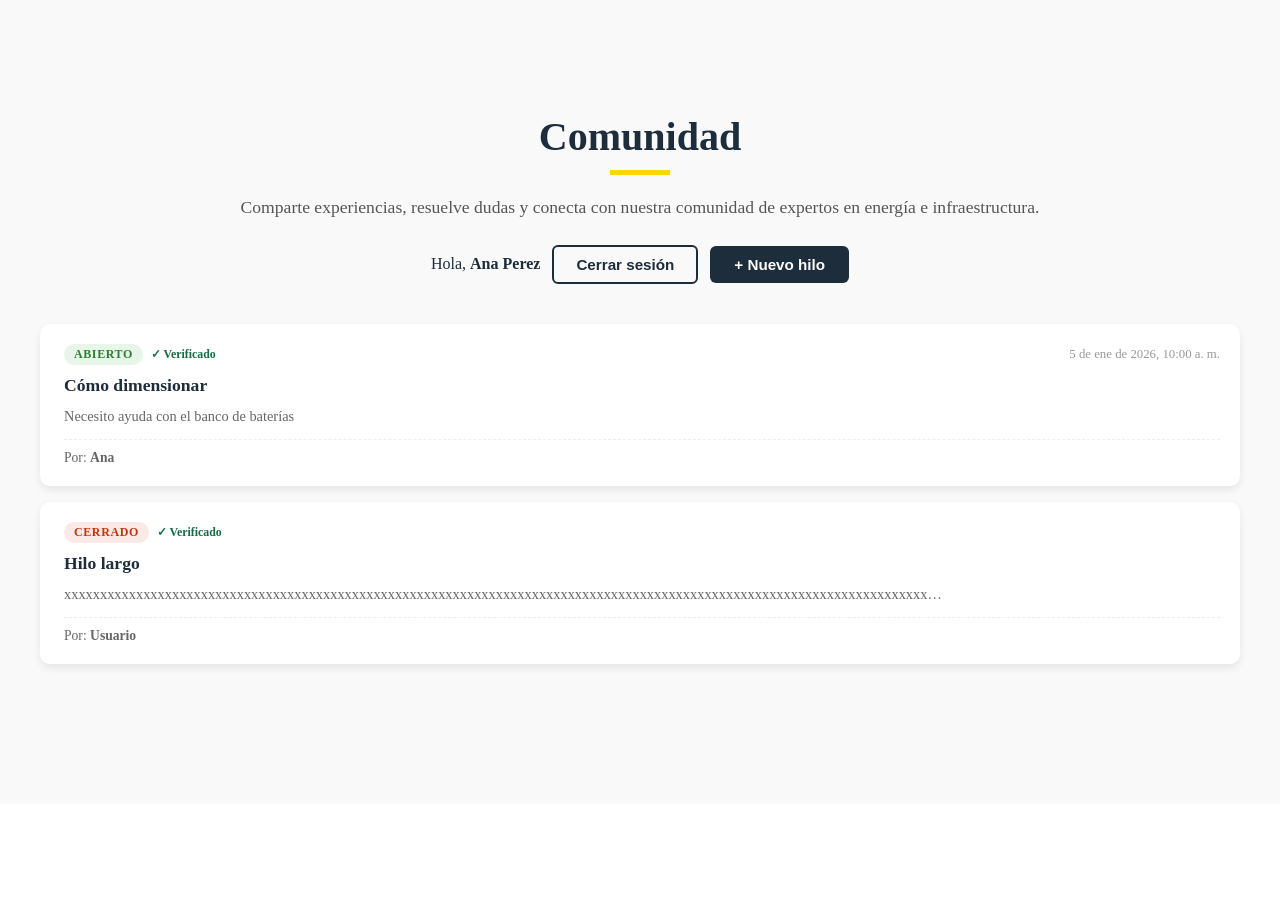
Scenario: Foro › usuario autenticado › saluda, permite cerrar sesión y crear un hilo
The image size is (1280, 900).
Expected: the text "Ana Perez" is shown, [470,255,540,272]
Click the button "+ Nuevo hilo": (780, 264) [710,246,849,283]
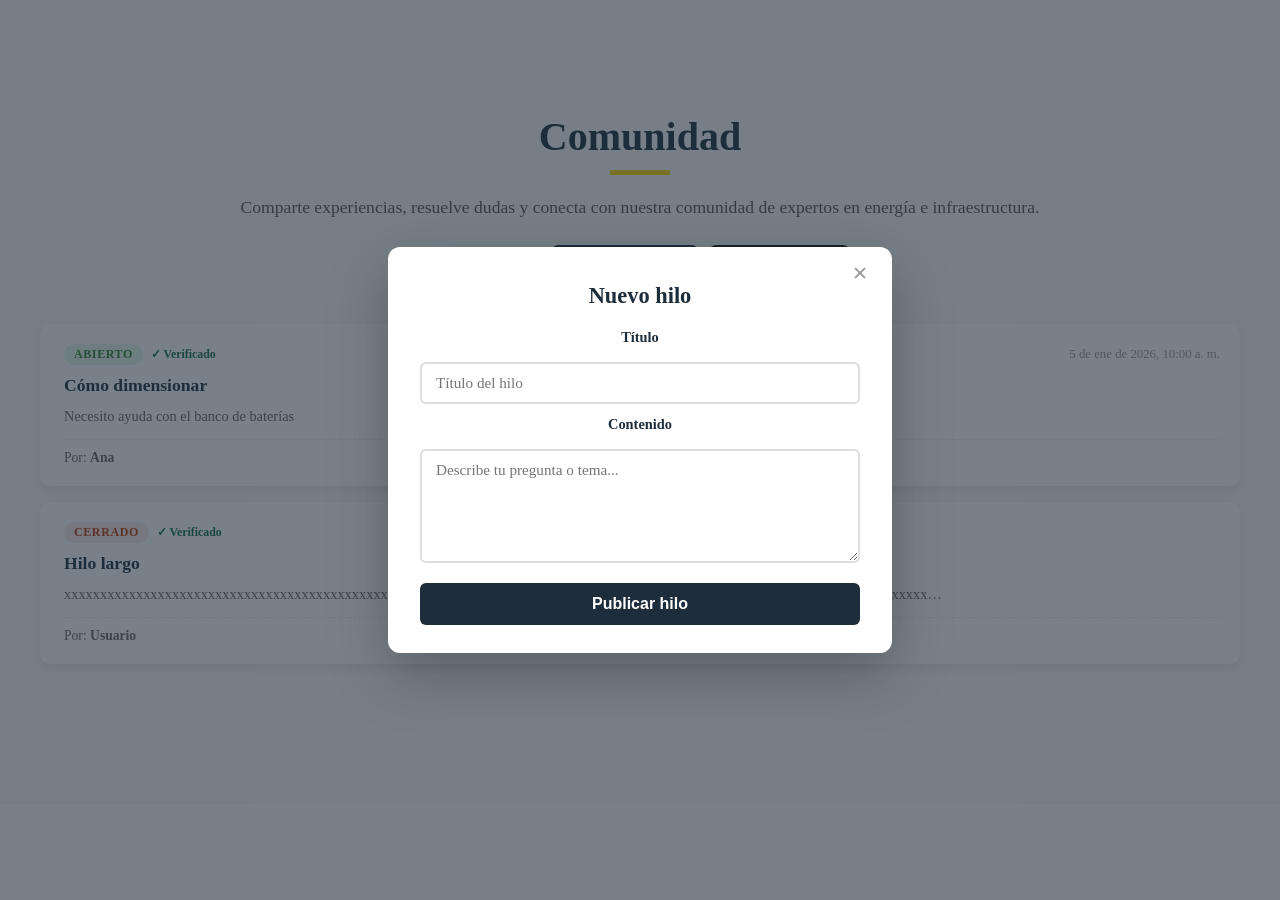
In the field with placeholder "Título del hilo": (640, 383) [420,362,860,404], type "Nuevo tema"
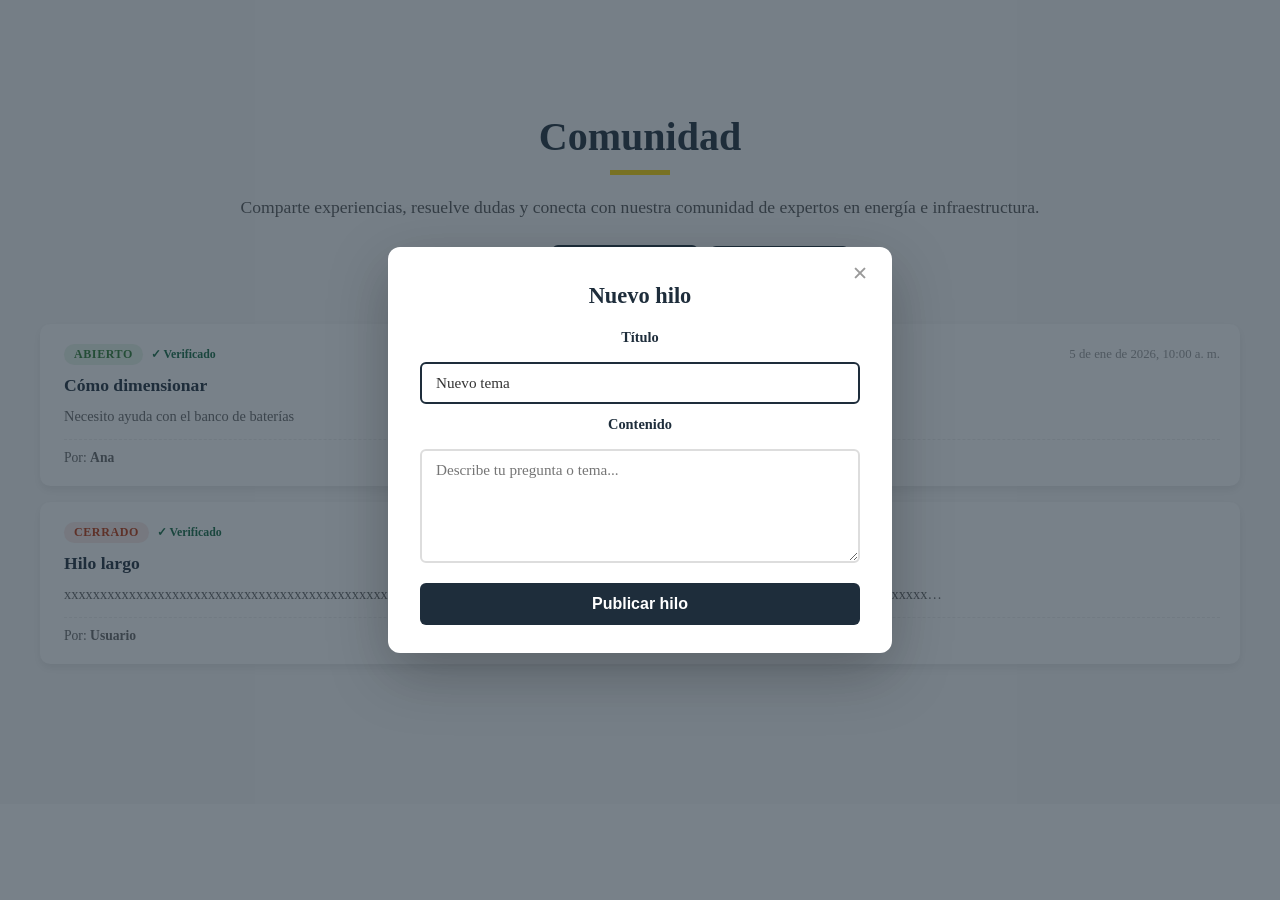
In the text box with placeholder "Describe tu pregunta o tema...": (640, 506) [420,449,860,563], type "Contenido del tema"
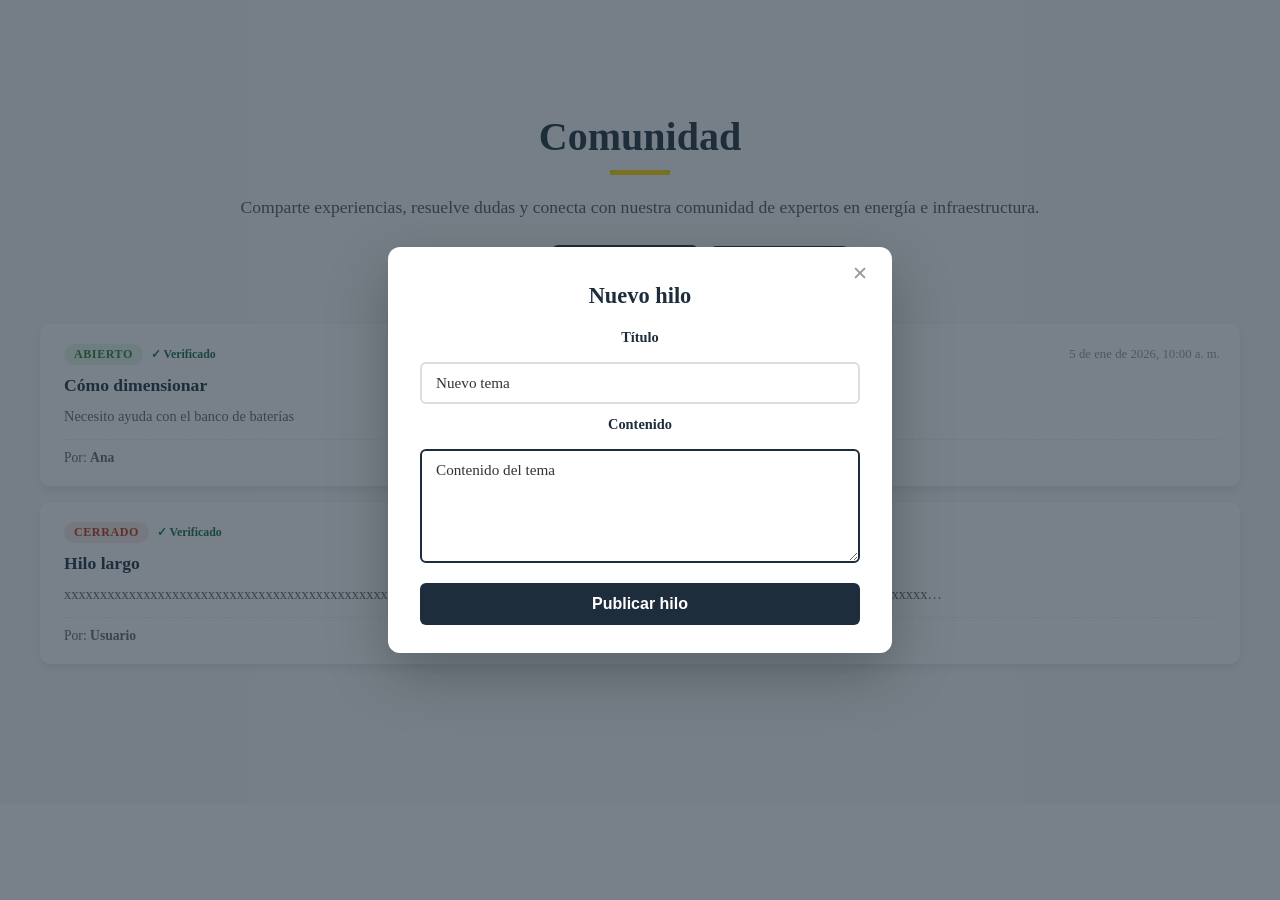
Click the button "Publicar hilo": (640, 604) [420,583,860,625]
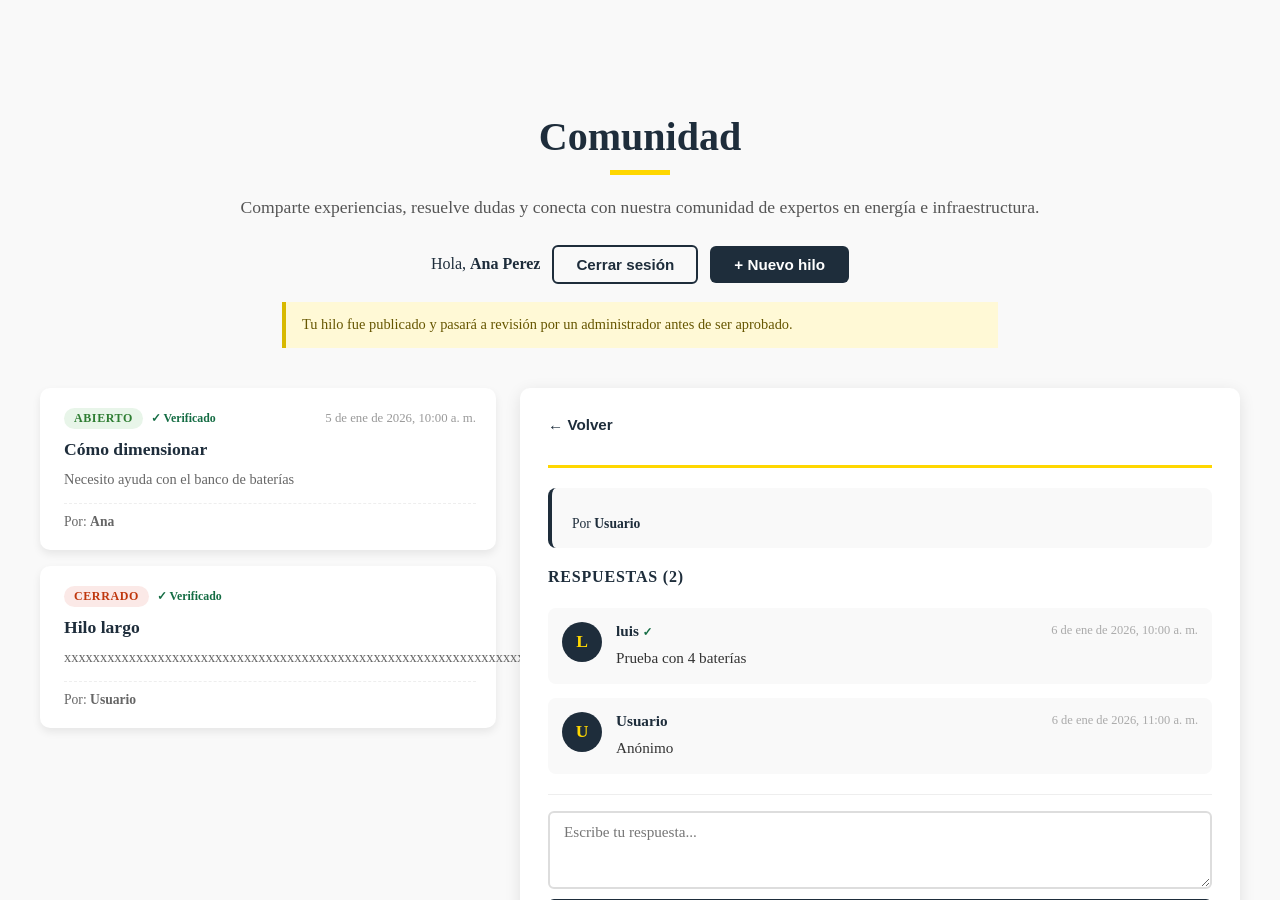
Expected: the text "pasará a revisión por un administrador" is shown, [302,316,793,332]
